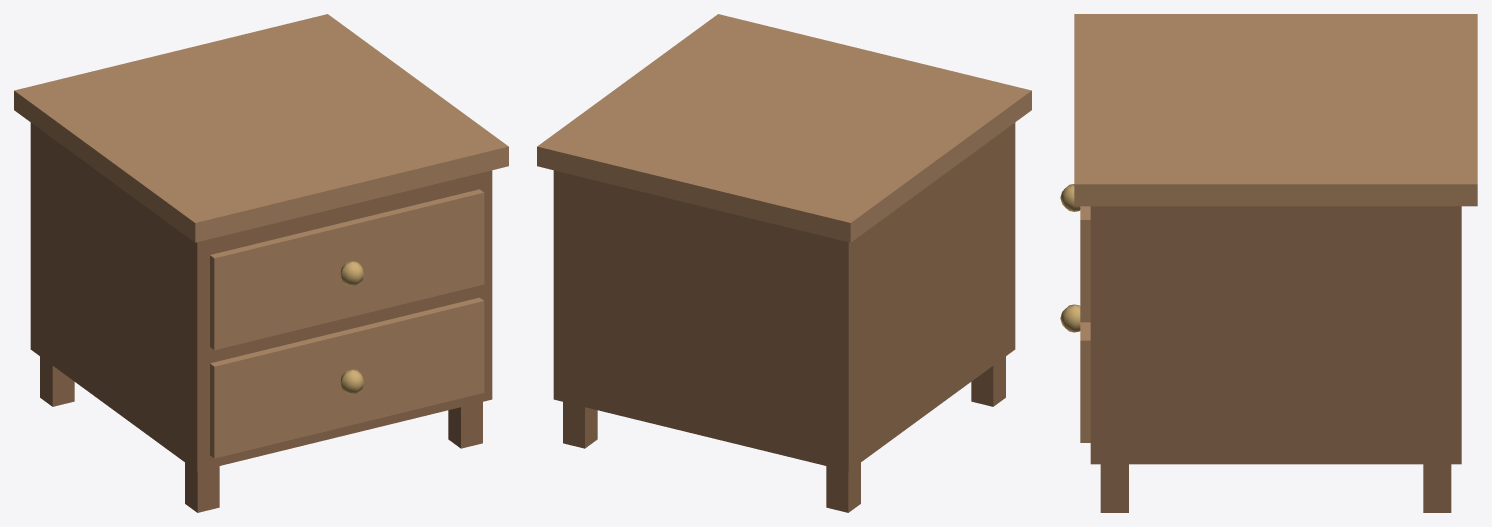
Rendered from nightstand.gltf.
The picture shows the model from 3 angles, left to right: view 1: azimuth 30°, elevation 25°; view 2: azimuth 150°, elevation 25°; view 3: azimuth 270°, elevation 25°; orthographic projection. The views are drawn at different scales.
Visible parts, largest first — view 1: top, body, drawer (×2), leg (×3); view 2: body, top, leg (×3); view 3: body, top, leg (×2), drawer (×2), knob.
Boxes of the visible parts, left/top/right/bottom form: top: left=14, top=14, right=508, bottom=242; body: left=30, top=122, right=492, bottom=471; drawer (×2): left=210, top=189, right=484, bottom=458; leg (×3): left=40, top=356, right=482, bottom=512; body: left=553, top=122, right=1015, bottom=471; top: left=537, top=14, right=1031, bottom=242; leg (×3): left=563, top=356, right=1005, bottom=512; body: left=1090, top=206, right=1461, bottom=464; top: left=1074, top=14, right=1477, bottom=206; leg (×2): left=1100, top=464, right=1451, bottom=512; drawer (×2): left=1080, top=206, right=1090, bottom=442; knob: left=1060, top=304, right=1080, bottom=332.
Bounding box in the file's own units: 1 × 0.92 × 1.04.
